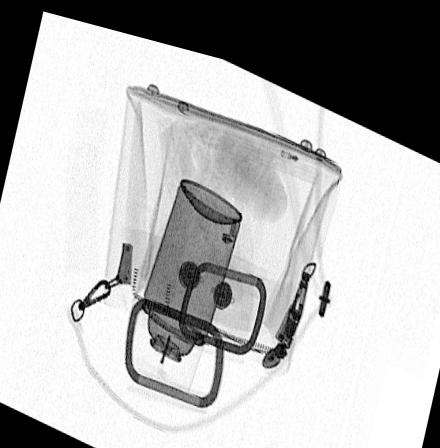Sprayer: (121, 166, 243, 383)
